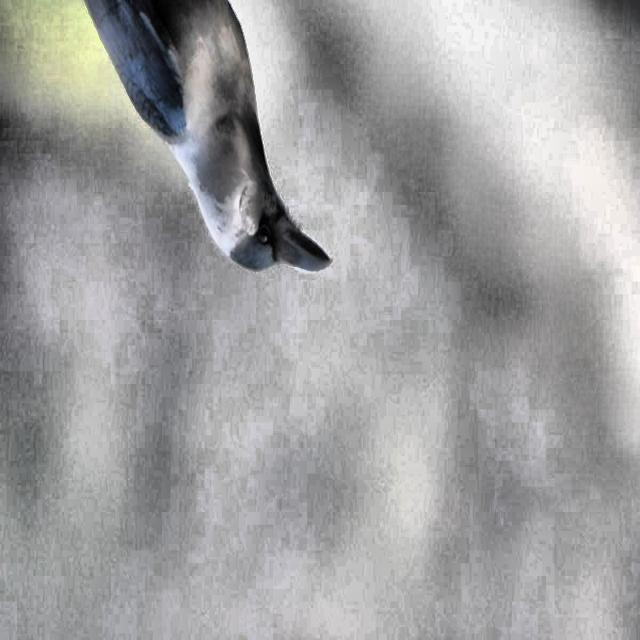crow: (79, 2, 380, 290)
